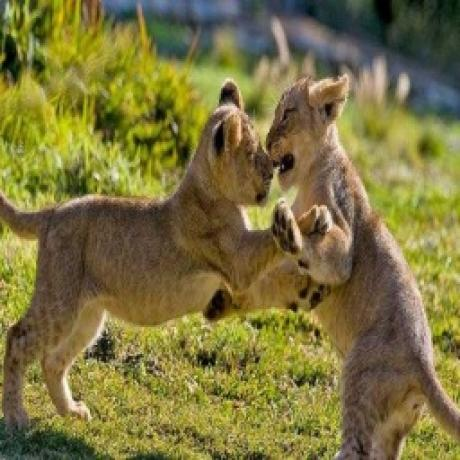Lion: (0, 79, 323, 427), (263, 72, 460, 460)
